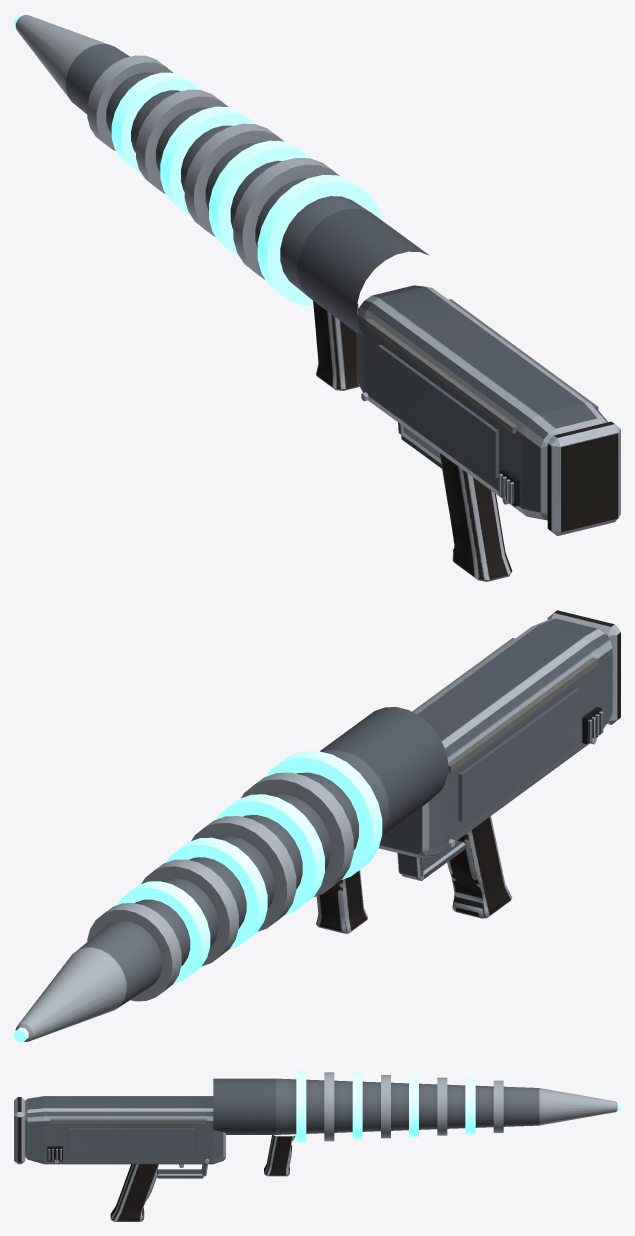
The picture shows the model from 3 angles, top to bottom: view 1: azimuth 30°, elevation 25°; view 2: azimuth 150°, elevation 25°; view 3: azimuth 270°, elevation 25°; orthographic projection. The views are drawn at different scales.
Visible parts, largest first — view 1: body; view 2: body; view 3: body.
Boxes of the visible parts, x1=… form: body: x1=14, y1=14, x2=620, y2=581; body: x1=14, y1=610, x2=620, y2=1042; body: x1=14, y1=1071, x2=620, y2=1221.
Size of the model in its own units: 0.113 by 0.2515 by 0.968.
1 material, 1 textured.
